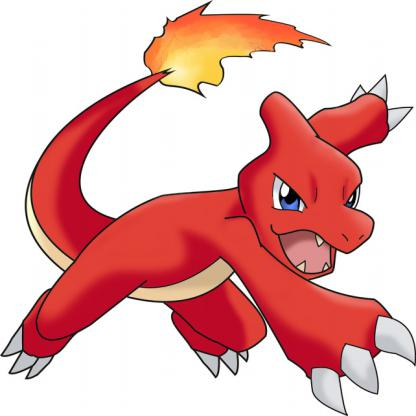Charmeleon: (1, 21, 416, 416)
